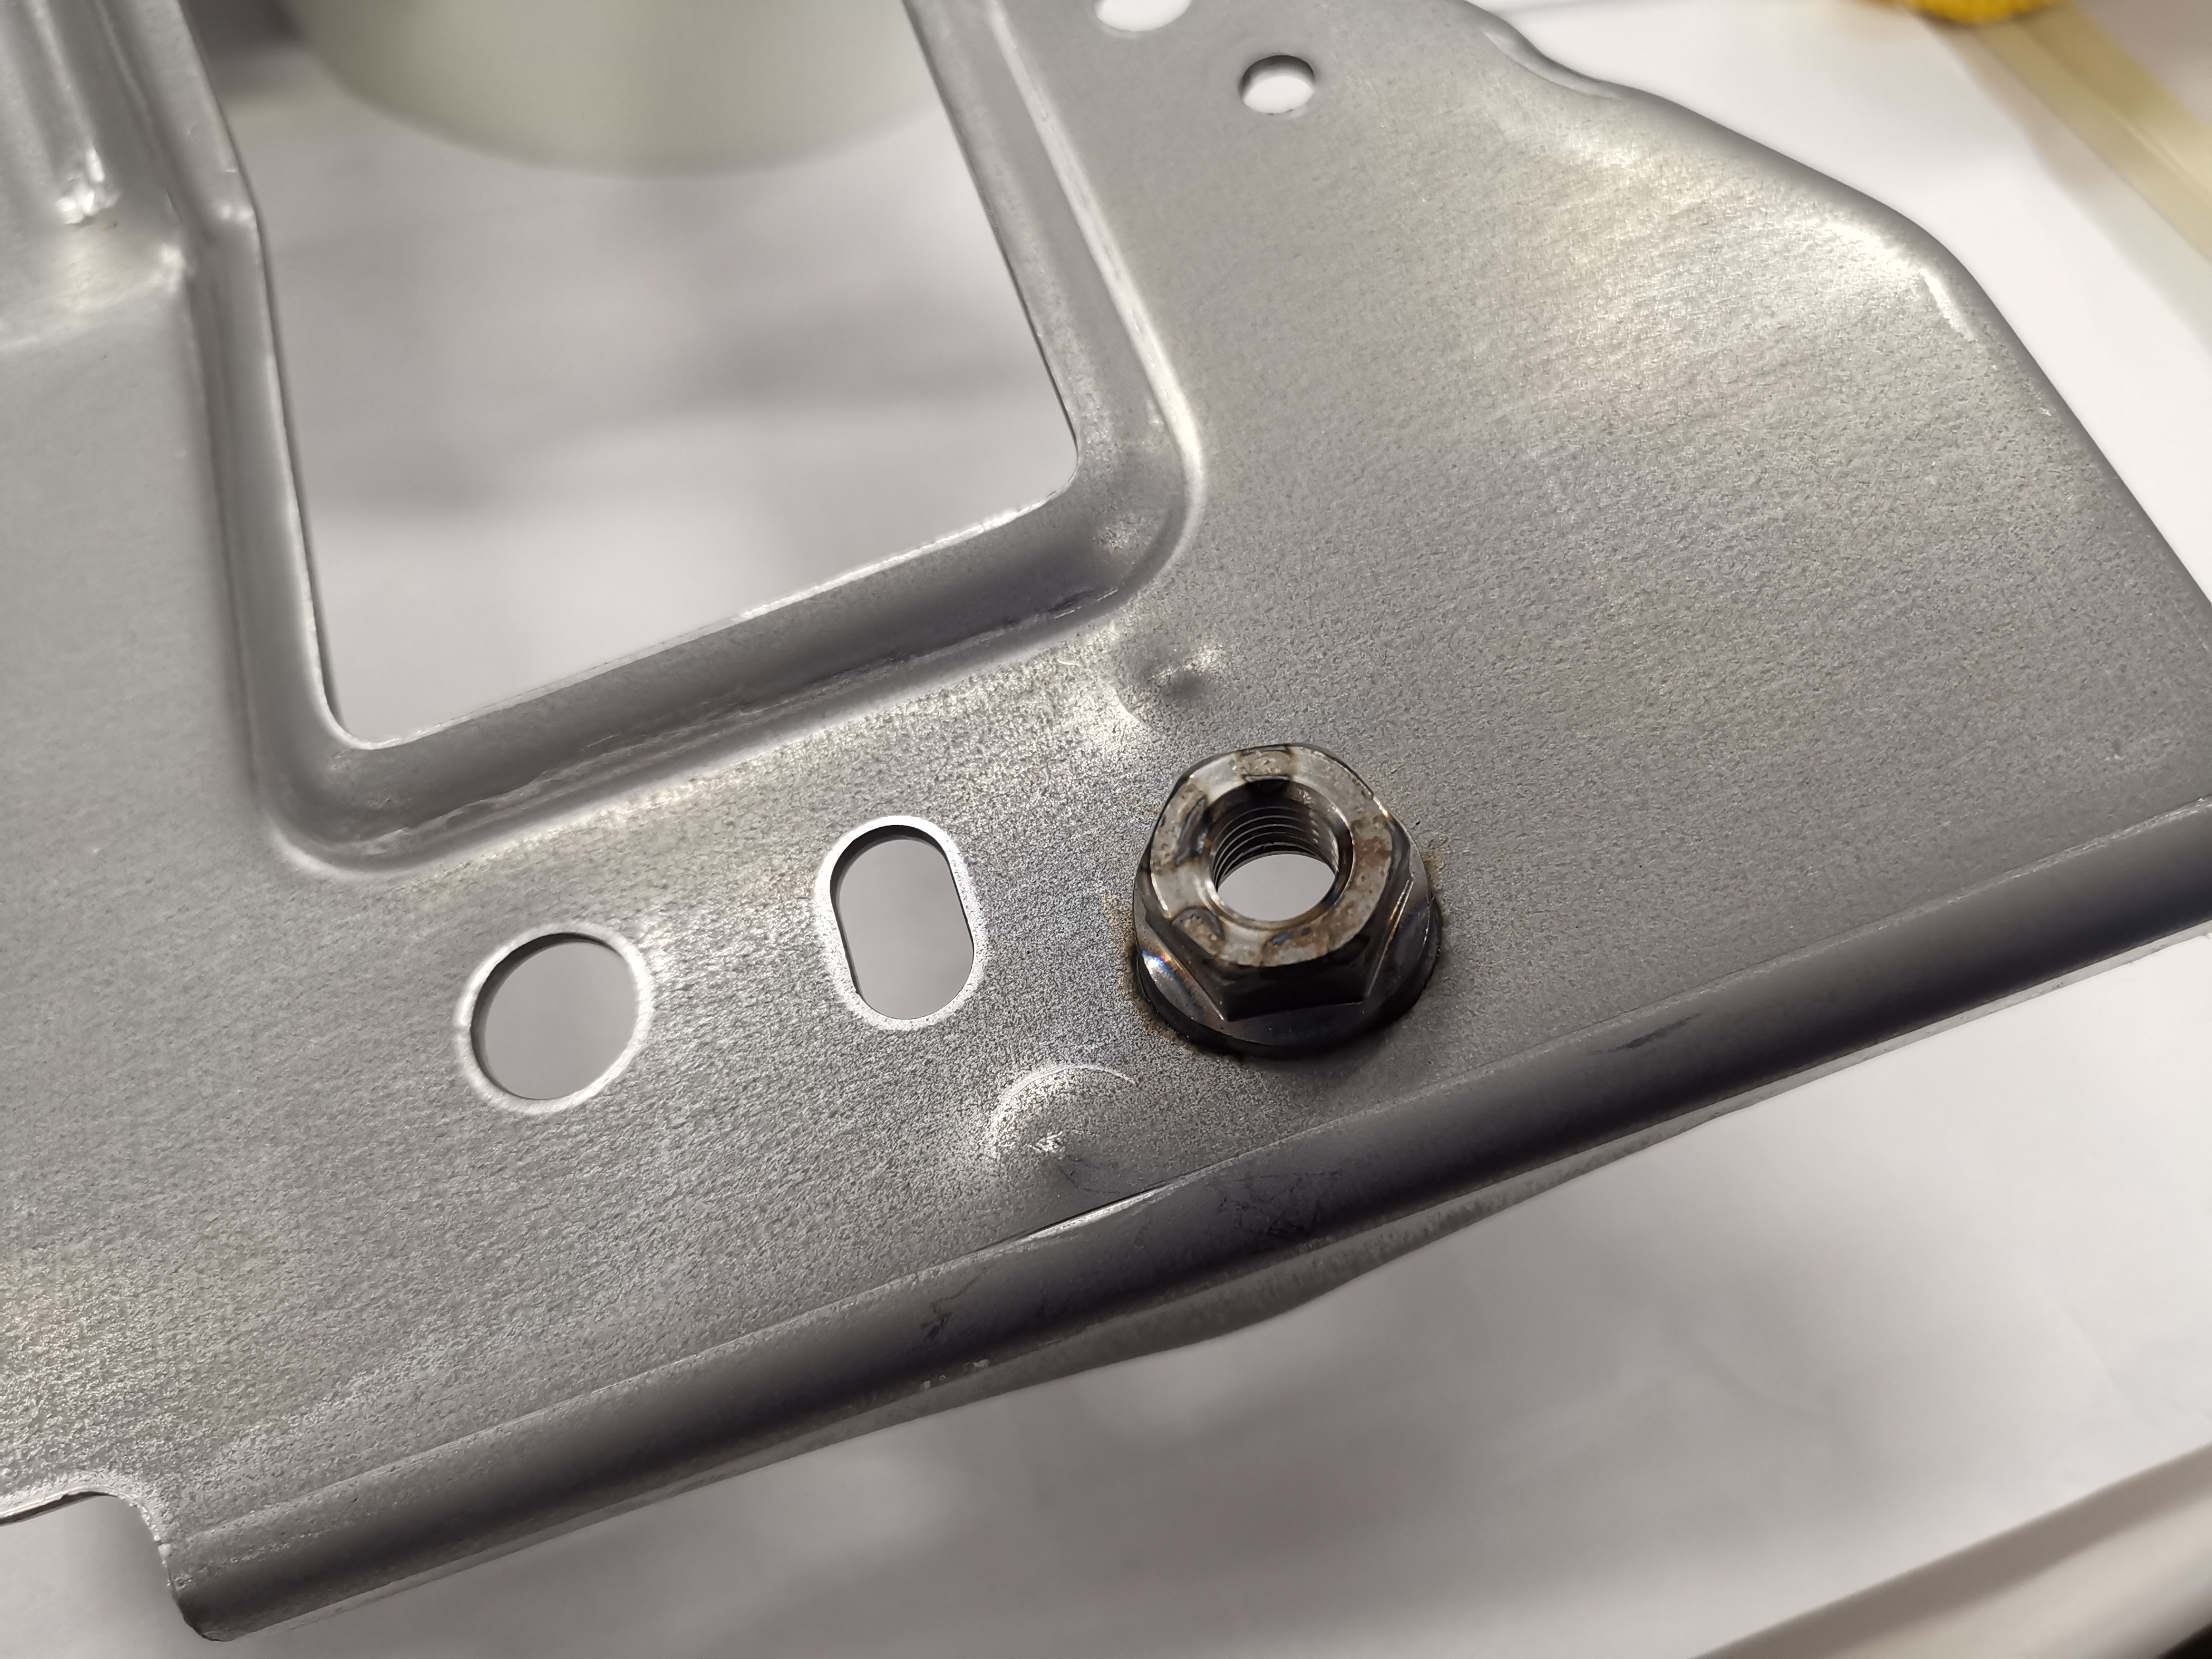dog: (1120, 728, 1454, 1070)
